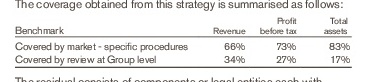table: (0, 0, 367, 82)
